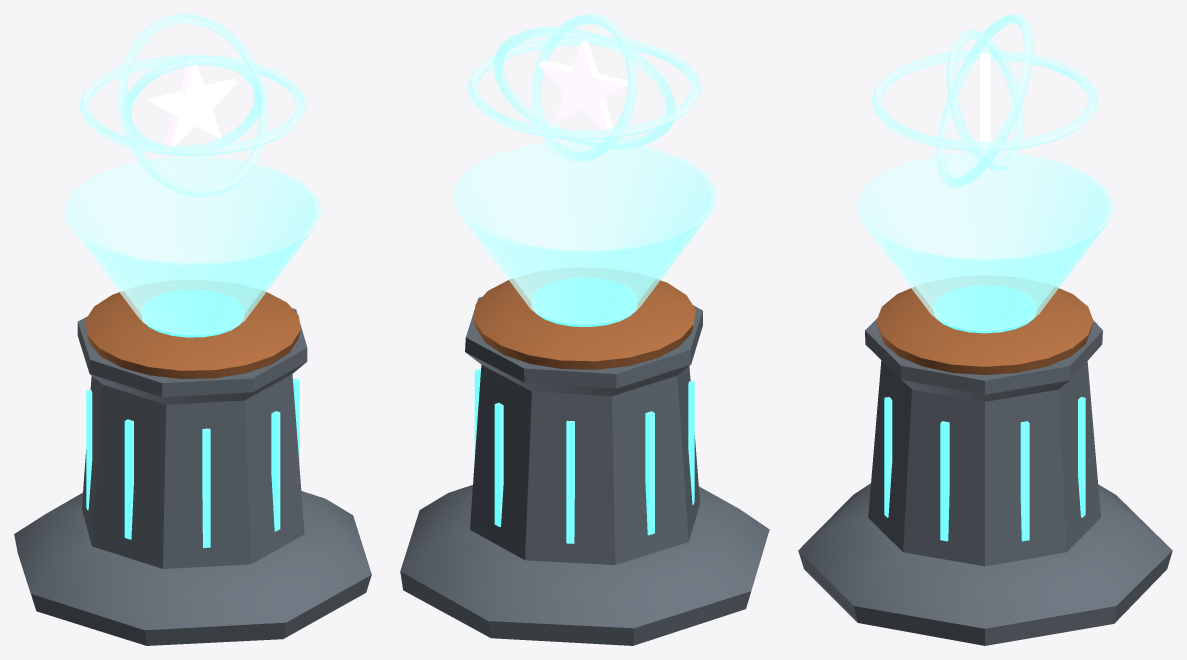
The model's file is deco_holo_idol_symbol.fbx.
The picture shows the model from 3 angles, left to right: view 1: azimuth 30°, elevation 25°; view 2: azimuth 150°, elevation 25°; view 3: azimuth 270°, elevation 25°; orthographic projection. The views are drawn at different scales.
Parts seen in each view (by area): view 1: HoloIdol_Symbol_Pedestal, HoloIdol_Symbol_Beam, HoloIdol_Symbol_Emitter, HoloIdol_Symbol_Glyph; view 2: HoloIdol_Symbol_Pedestal, HoloIdol_Symbol_Beam, HoloIdol_Symbol_Emitter, HoloIdol_Symbol_Glyph; view 3: HoloIdol_Symbol_Pedestal, HoloIdol_Symbol_Beam, HoloIdol_Symbol_Emitter, HoloIdol_Symbol_Glyph.
Part boxes in pixels (x1,y1,x2,y2): HoloIdol_Symbol_Pedestal: (14, 308, 371, 645); HoloIdol_Symbol_Beam: (64, 156, 321, 334); HoloIdol_Symbol_Emitter: (85, 289, 300, 378); HoloIdol_Symbol_Glyph: (79, 14, 306, 196); HoloIdol_Symbol_Pedestal: (400, 297, 769, 645); HoloIdol_Symbol_Beam: (452, 141, 716, 324); HoloIdol_Symbol_Emitter: (473, 277, 695, 369); HoloIdol_Symbol_Glyph: (468, 14, 701, 161); HoloIdol_Symbol_Pedestal: (798, 318, 1172, 645); HoloIdol_Symbol_Beam: (856, 151, 1113, 330); HoloIdol_Symbol_Emitter: (876, 285, 1093, 374); HoloIdol_Symbol_Glyph: (871, 14, 1098, 187).
Bounding box in the file's own units: 144 × 232 × 145.
